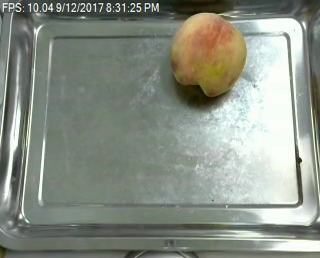Peach: (169, 11, 247, 97)
